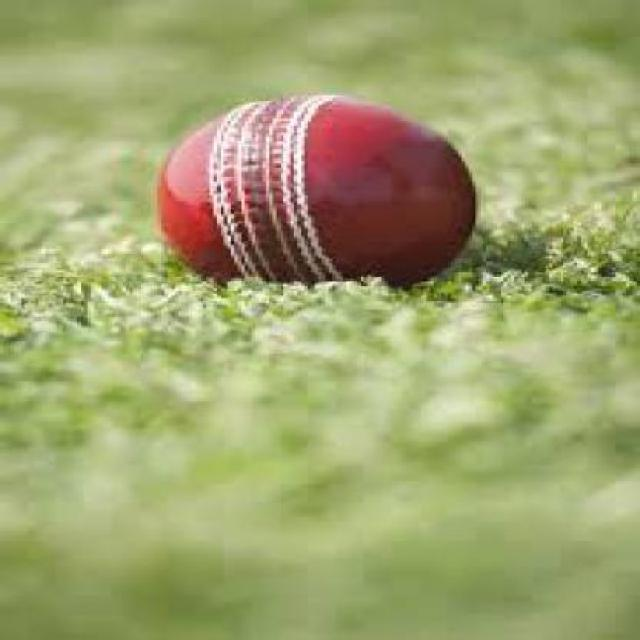ball: (133, 61, 614, 310)
